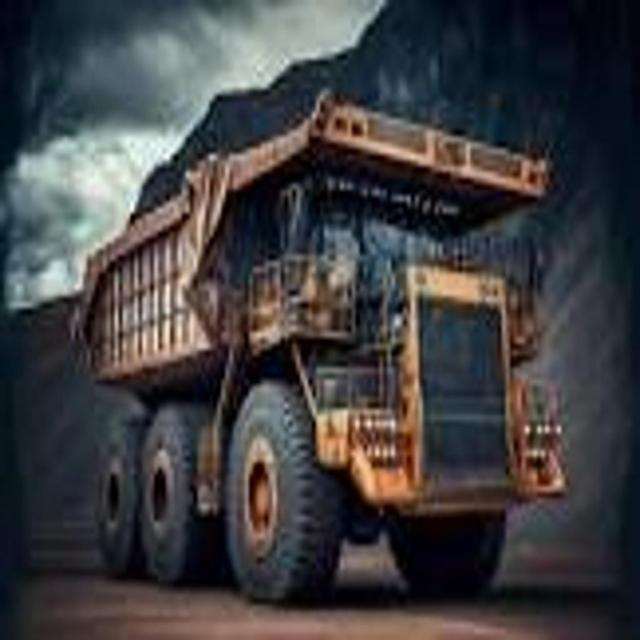dump_truck: (64, 88, 566, 607)
